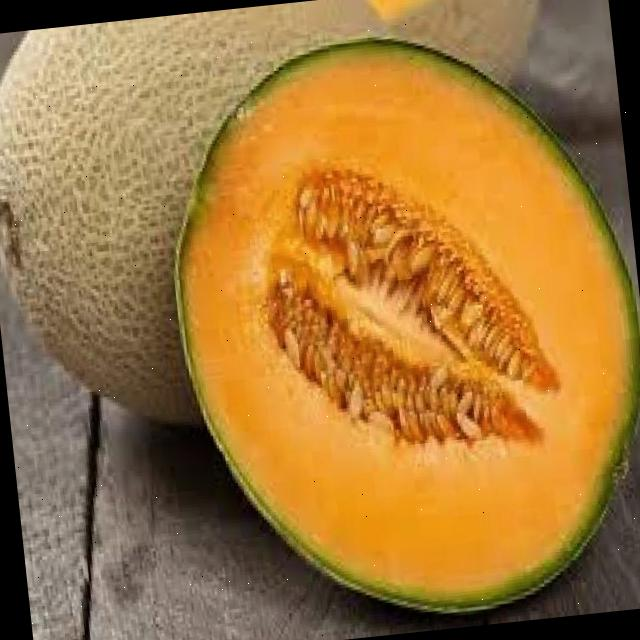Hami Melon: (152, 16, 640, 637), (0, 0, 422, 437)
